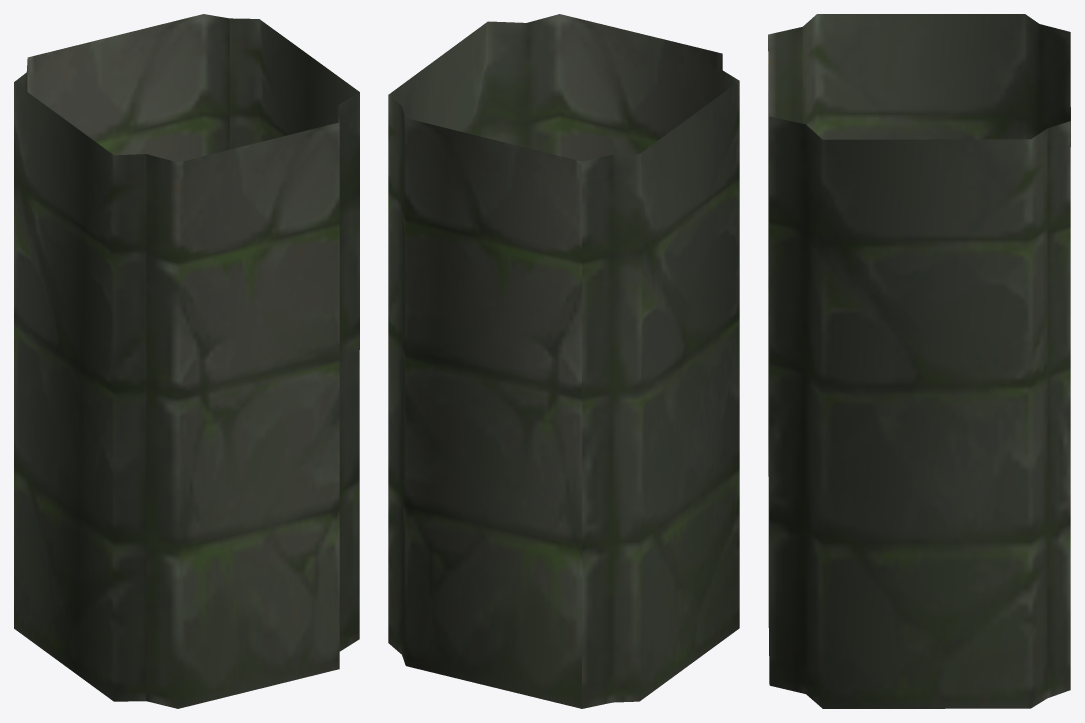
File: yw_newshanlin_postamong_001.FBX
3 views of the same model, side by side, from view 1: azimuth 30°, elevation 25°; view 2: azimuth 150°, elevation 25°; view 3: azimuth 270°, elevation 25° (orthographic). The views are drawn at different scales.
Parts seen in each view (by area): view 1: yw_newshanlin_postamong_001; view 2: yw_newshanlin_postamong_001; view 3: yw_newshanlin_postamong_001.
Part boxes in pixels (<box>): yw_newshanlin_postamong_001: <box>14,14,359,708</box>; yw_newshanlin_postamong_001: <box>388,14,739,708</box>; yw_newshanlin_postamong_001: <box>768,14,1070,708</box>.
Size of the model in its own units: 15.01 by 15.2 by 31.59.
